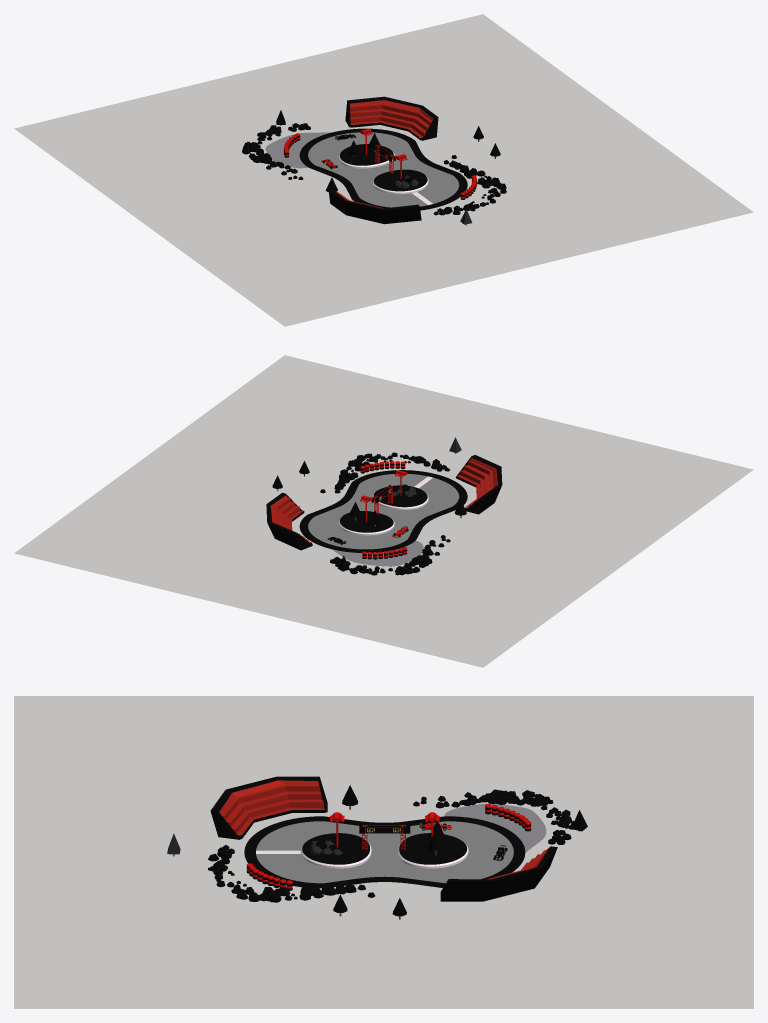
File: racetrack_red.glb
3 renders of one model, top to bottom at view 1: azimuth 30°, elevation 25°; view 2: azimuth 150°, elevation 25°; view 3: azimuth 270°, elevation 25°, orthographic. The views are drawn at different scales.
Visible parts, largest first — view 1: Plane_2, Cap_2_6, Cap_2_2, Cap_2_7, Cap, Loft_2, Cap_2, Cube_1; view 2: Plane_2, Cap_2_6, Cap_2_7, Cap, Cap_2_4, Cap_2, Cap_2_2, Loft, Loft_2; view 3: Plane_2, Cap_2_6, Cap_2_4, Cap_2_7, Cap, Loft, Cap_2, Cube_1, Loft_2.
Boxes of the visible parts, x1,y1,x2,y2 form: Plane_2: (14,14,753,326); Cap_2_6: (308,132,459,207); Cap_2_2: (350,100,432,137); Cap_2_7: (299,128,467,210); Cap: (340,144,427,191); Loft_2: (328,190,421,224); Cap_2: (265,132,331,168); Cube_1: (338,151,432,205); Plane_2: (14,355,753,667); Cap_2_6: (308,474,459,549); Cap_2_7: (299,470,467,552); Cap: (340,485,427,532); Cap_2_4: (457,458,497,508); Cap_2: (332,540,423,566); Cap_2_2: (270,495,311,543); Loft: (267,493,312,550); Loft_2: (455,456,501,514); Plane_2: (14,696,753,1008); Cap_2_6: (256,821,513,883); Cap_2_4: (219,780,325,835); Cap_2_7: (244,816,525,888); Cap: (302,833,466,864); Loft: (440,847,557,901); Cap_2: (444,803,546,852); Cube_1: (256,842,468,868); Loft_2: (210,777,327,839).
Bounding box in the file's own units: 26.28 × 1.69 × 26.28.
